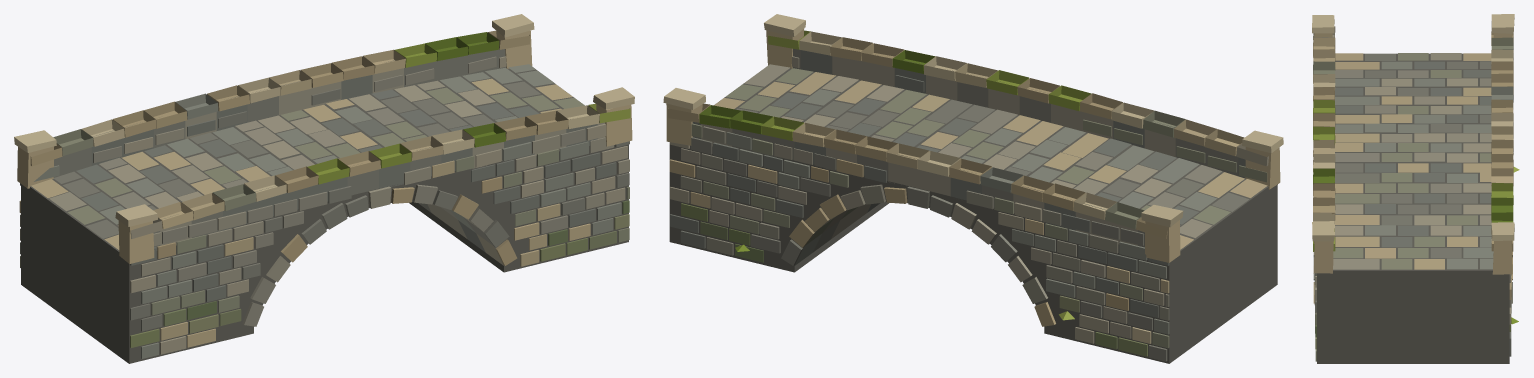
The model's file is town_bridge.glb.
3 renders of one model, left to right at view 1: azimuth 30°, elevation 25°; view 2: azimuth 150°, elevation 25°; view 3: azimuth 270°, elevation 25°, orthographic. The views are drawn at different scales.
Parts seen in each view (by area): view 1: town_bridge; view 2: town_bridge; view 3: town_bridge.
Part boxes in pixels (bbox=[...]): town_bridge: bbox=[14, 14, 634, 363]; town_bridge: bbox=[663, 14, 1283, 363]; town_bridge: bbox=[1312, 14, 1519, 363].
Size of the model in its own units: 16.26 by 4.49 by 6.47.
